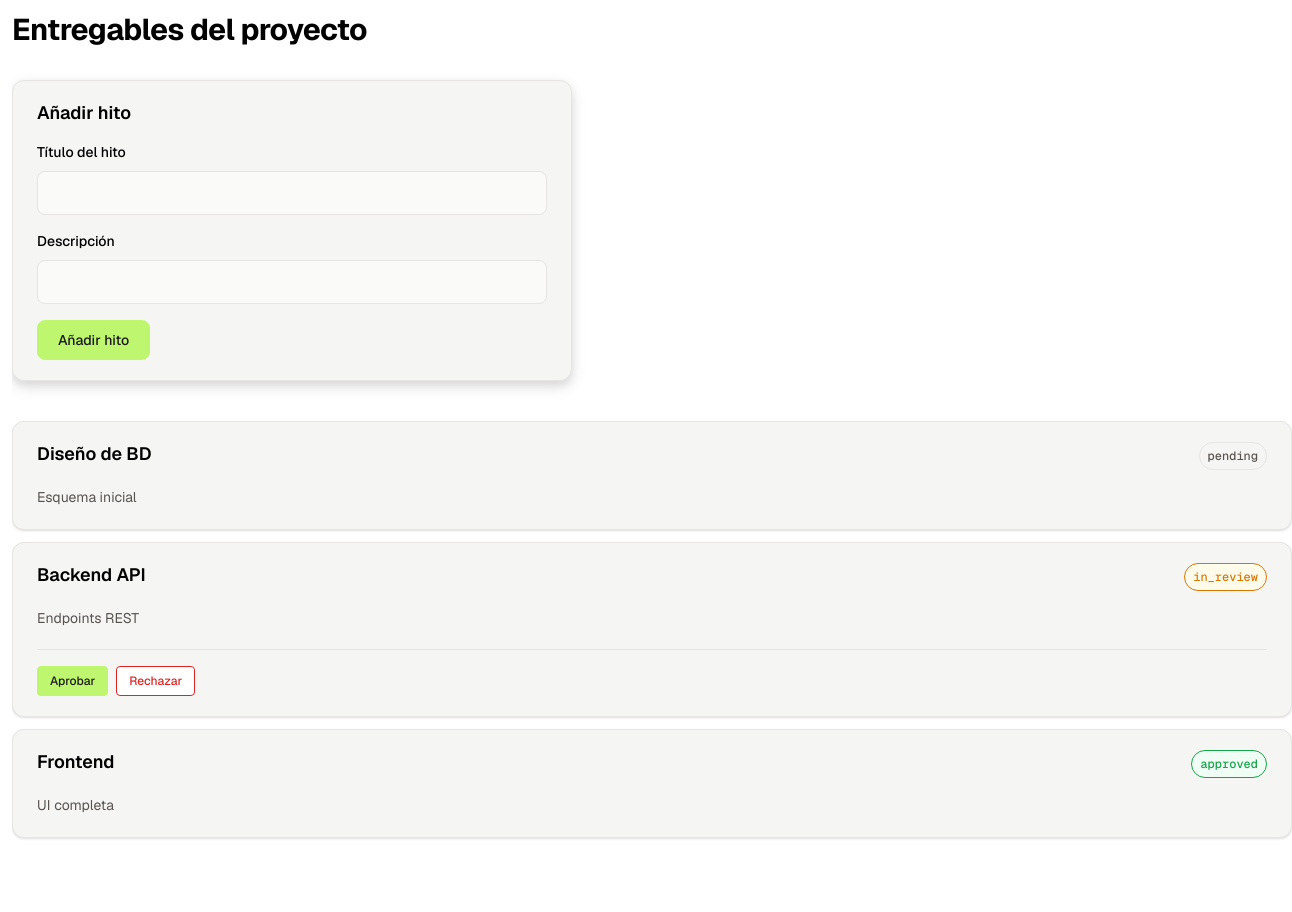
NgoDeliverablesPage › AC8: muestra error si reviewDeliverable falla
Expected: the heading "Backend API" is shown, [37, 562, 146, 587]
Click the button "Aprobar".
click(73, 681)  # box [37, 666, 108, 696]
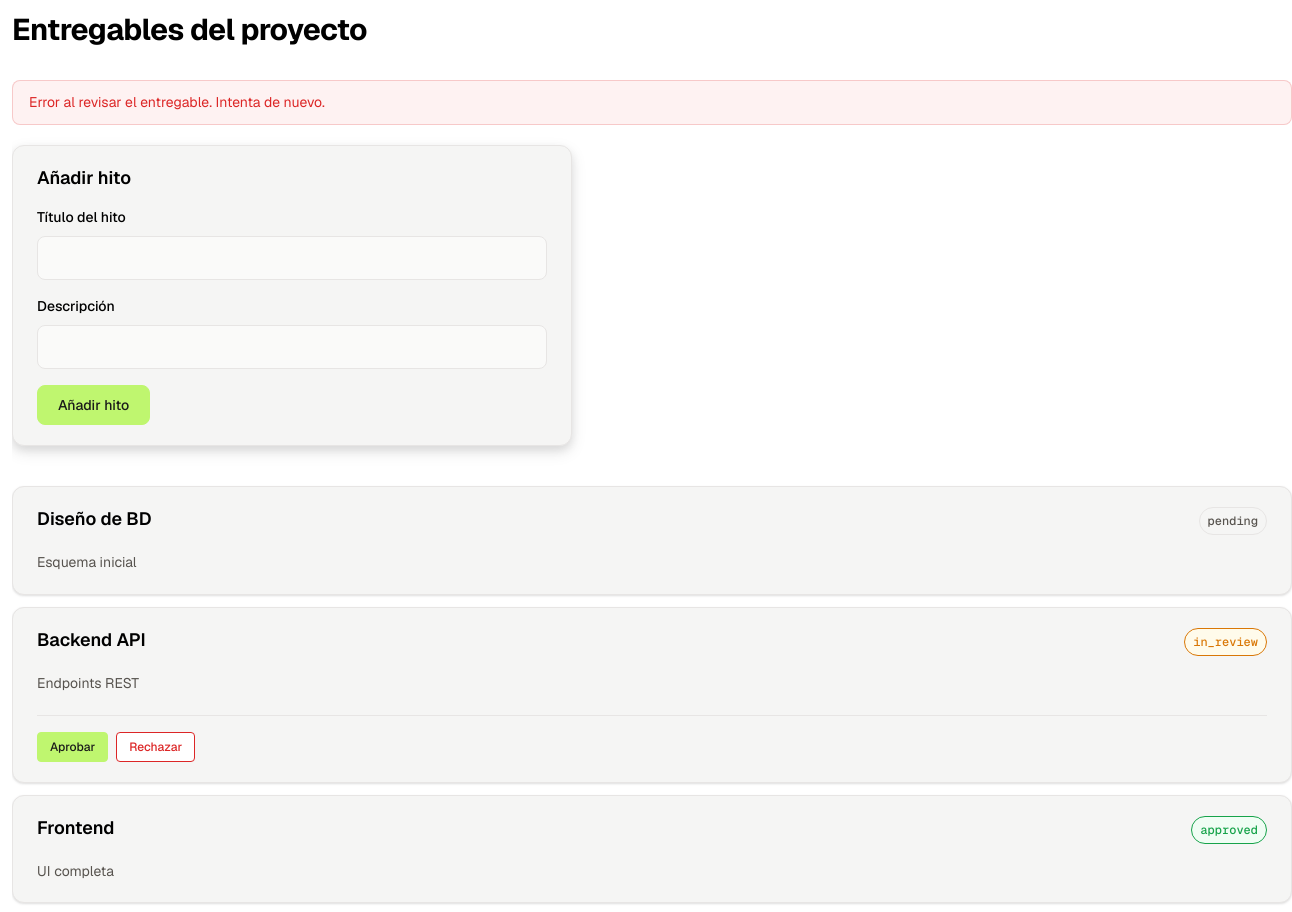
Now the message "Error al revisar el entregable. Intenta de nuevo." is shown, box [12, 80, 1291, 125]
